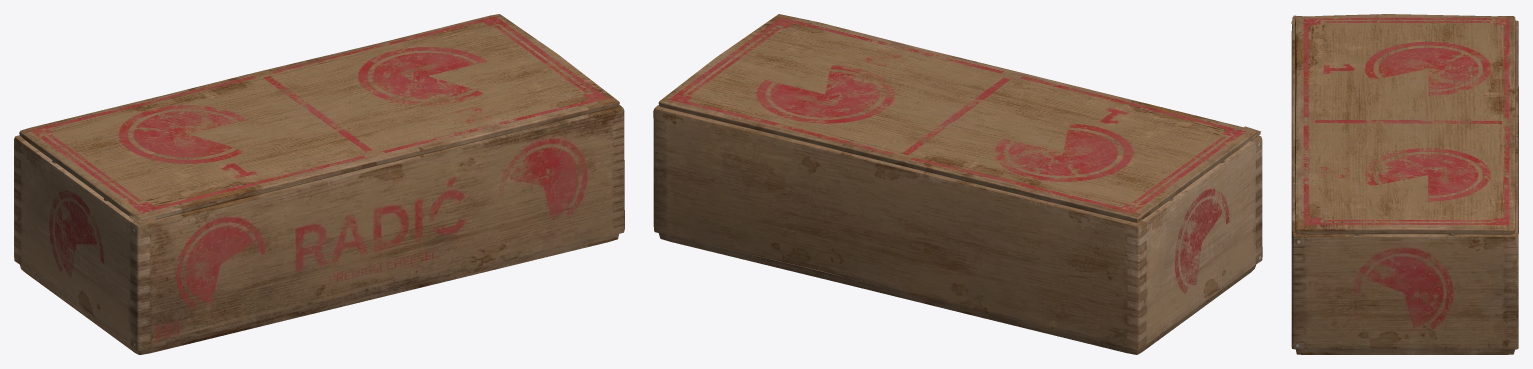
File: CheeseBox_01.glb
3 views of the same model, side by side, from view 1: azimuth 30°, elevation 25°; view 2: azimuth 150°, elevation 25°; view 3: azimuth 270°, elevation 25° (orthographic). The views are drawn at different scales.
Parts seen in each view (by area): view 1: CheeseBox_01, CheeseBox_01_lid; view 2: CheeseBox_01, CheeseBox_01_lid; view 3: CheeseBox_01_lid, CheeseBox_01.
Part boxes in pixels (x1,y1,x2,y2): CheeseBox_01: (14,105,624,354); CheeseBox_01_lid: (19,14,619,225); CheeseBox_01: (653,105,1262,354); CheeseBox_01_lid: (658,14,1260,222); CheeseBox_01_lid: (1291,14,1515,234); CheeseBox_01: (1291,20,1518,354).
Bounding box in the file's own units: 0.2404 × 0.066 × 0.1066.
Materials: 1 (1 with a texture image).
